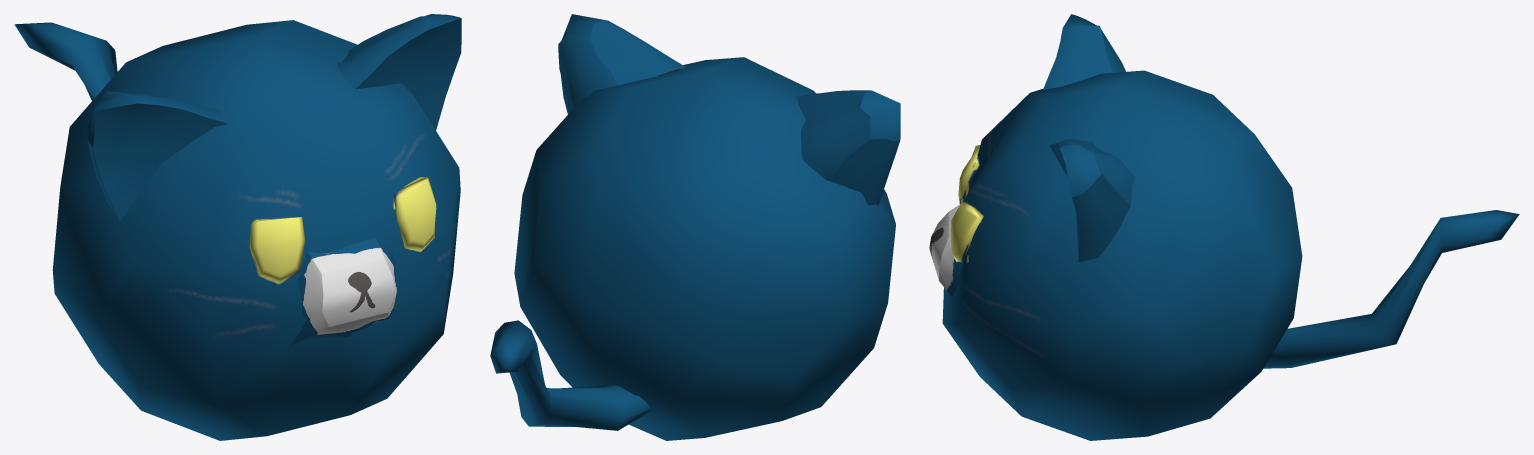
Rendered from cat.fbx.
The picture shows the model from 3 angles, left to right: view 1: azimuth 30°, elevation 25°; view 2: azimuth 150°, elevation 25°; view 3: azimuth 270°, elevation 25°; orthographic projection. The views are drawn at different scales.
Visible parts, largest first — view 1: pSolid1, pCube7, pCube2, pCube5, pCube6, pCube9, pCube8; view 2: pSolid1, pCube7, pCube6, pCube5; view 3: pSolid1, pCube6, pCube5, pCube7, pCube2, pCube8, pCube9.
Part boxes in pixels (x1,y1,x2,y2): pSolid1: (52,20,460,440); pCube7: (86,91,228,221); pCube2: (290,238,397,345); pCube5: (336,14,461,130); pCube6: (14,22,117,100); pCube9: (249,217,304,284); pCube8: (393,176,436,252); pSolid1: (514,57,895,440); pCube7: (797,90,900,205); pCube6: (490,320,651,430); pCube5: (558,14,685,114); pSolid1: (942,70,1302,440); pCube6: (1263,210,1519,368); pCube5: (1049,139,1135,262); pCube7: (1043,14,1125,89); pCube2: (929,204,963,296); pCube8: (951,200,983,262); pCube9: (958,145,980,203).
Size of the model in its own units: 4.21 by 4.25 by 6.68.
1 material, 1 textured.
